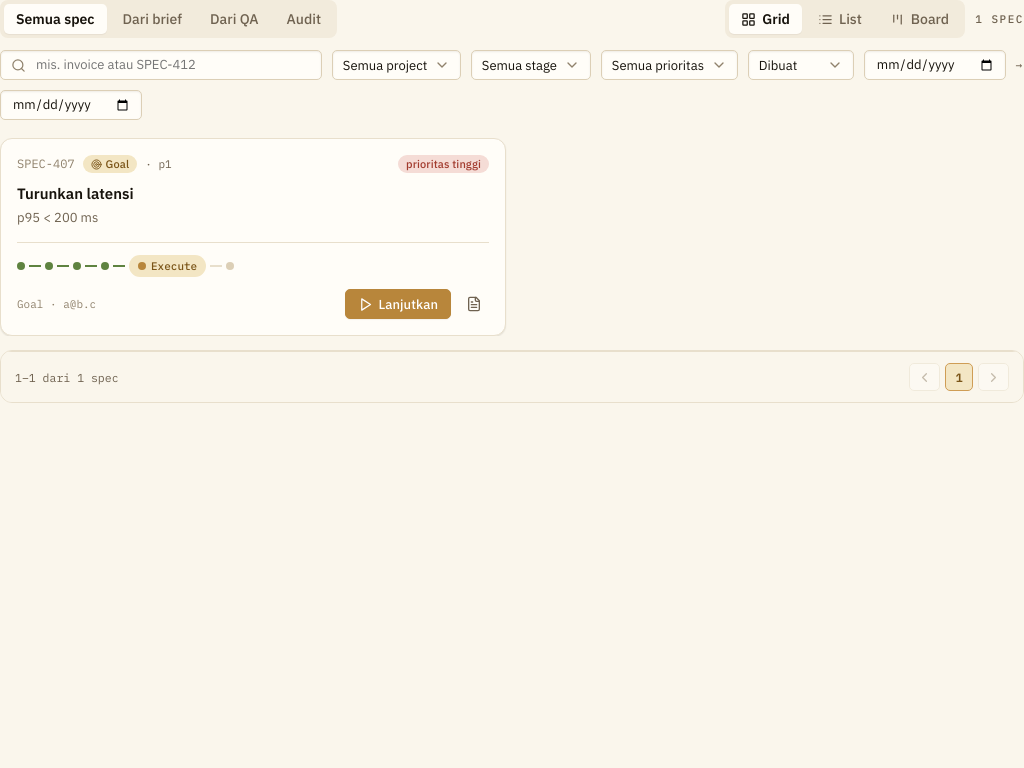
Test: BacklogScreen · item goal (SPEC-407) › badge Goal muncul dan detail mengeja goal, selesai bila, batasan
Expected: the text "Goal" is shown, [83,155,137,173]
Click the button "Turunkan latensi": (75, 194) [17,184,134,203]
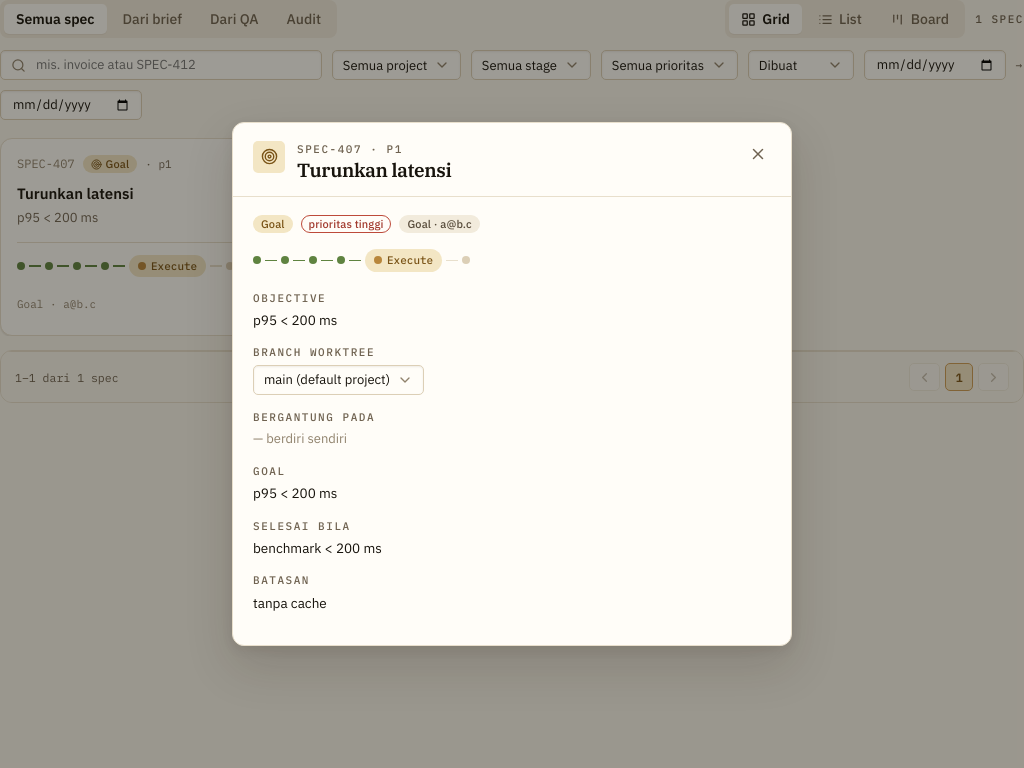
Expected: the text "Selesai bila" is shown, [253,519,351,533]
Expected: the text "benchmark < 200 ms" is shown, [253,539,382,557]
Expected: the text "tanpa cache" is shown, [253,594,327,612]
